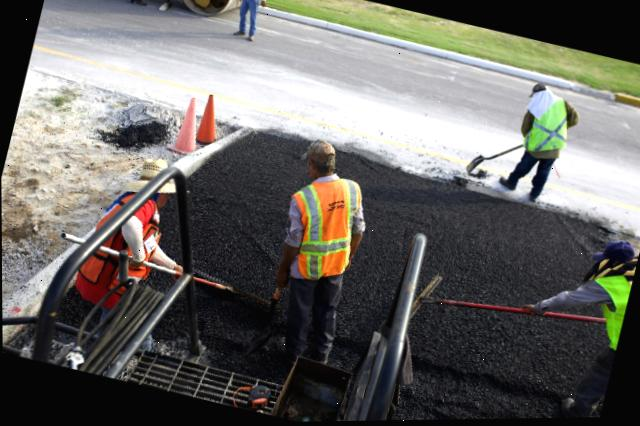vest: (277, 161, 377, 291), (521, 85, 583, 165), (576, 272, 633, 355)
